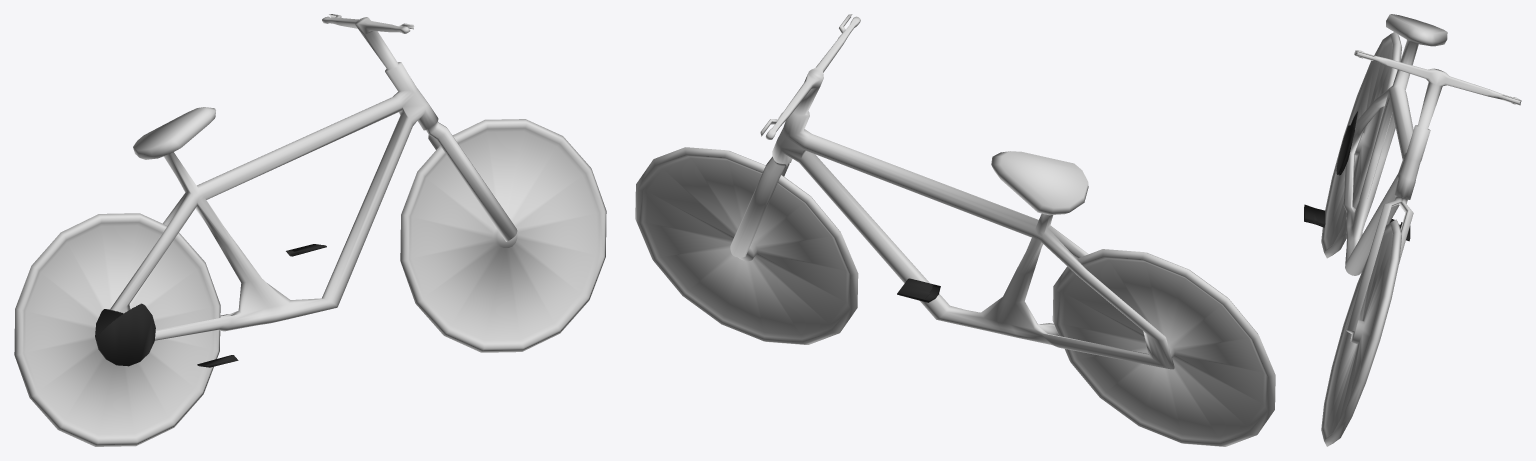
Rendered from Pyora.fbx.
3 views of the same model, side by side, from view 1: azimuth 30°, elevation 25°; view 2: azimuth 150°, elevation 25°; view 3: azimuth 270°, elevation 25° (orthographic). The views are drawn at different scales.
Parts seen in each view (by area): view 1: pyora, polkimet; view 2: pyora, polkimet; view 3: pyora, polkimet.
Part boxes in pixels (x1,y1,x2,y2): pyora: (14, 14, 606, 446); polkimet: (95, 244, 326, 367); pyora: (635, 14, 1275, 446); polkimet: (897, 278, 940, 302); pyora: (1321, 14, 1521, 446); polkimet: (1304, 111, 1410, 241).
Bounding box in the file's own units: 151 × 82.33 × 48.08.
